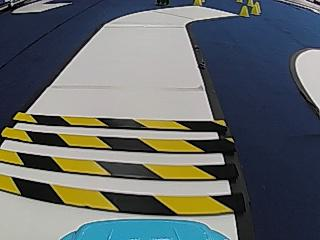bump: (3, 105, 236, 210)
